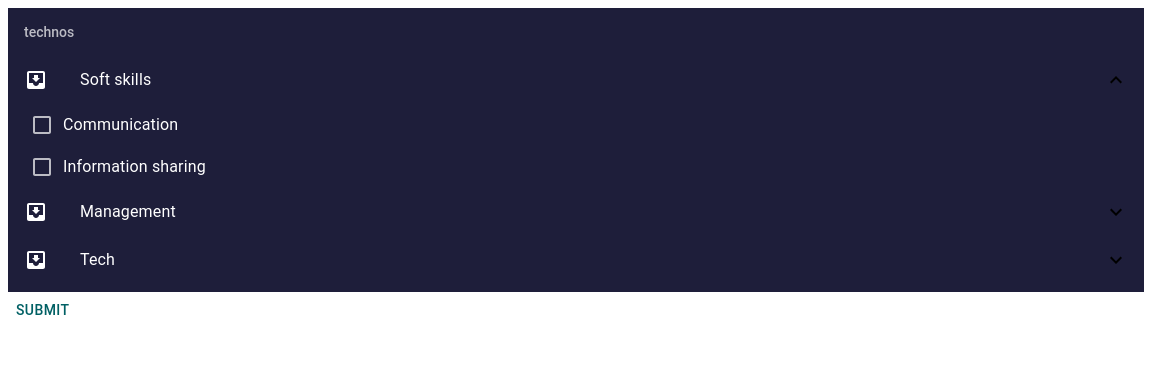
Test case: CheckBoxList component › should switch of category
Expected: the checkbox labelled "Communication" is shown, [30,113,178,137]
Expected: the checkbox labelled "Information sharing" is shown, [30,155,206,179]
Click the button "Management" at (128,212), box [24,200,1128,224]
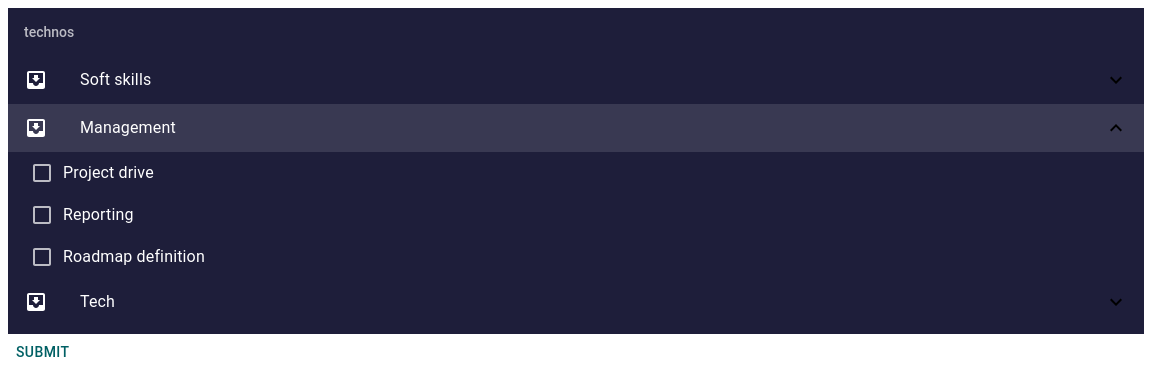
Now the text "Communication" is gone
Now the text "Information sharing" is gone
Now the checkbox labelled "Project drive" is shown, box [30,161,154,185]
